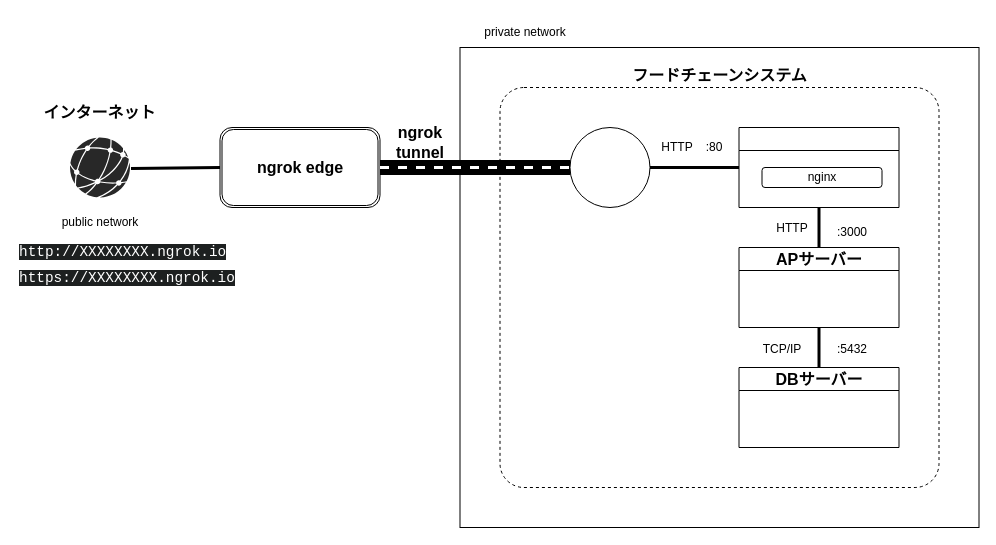
Some shapes in this 996 by 545 pixel diagram are drawn without their labels. The box of each missing label's shape, as (x1, y1, x2, y2) in pixels:
ngrok agent: (569, 126, 650, 208)
Webサーバー: (738, 126, 899, 208)
ローカルマシン: (459, 46, 979, 528)
